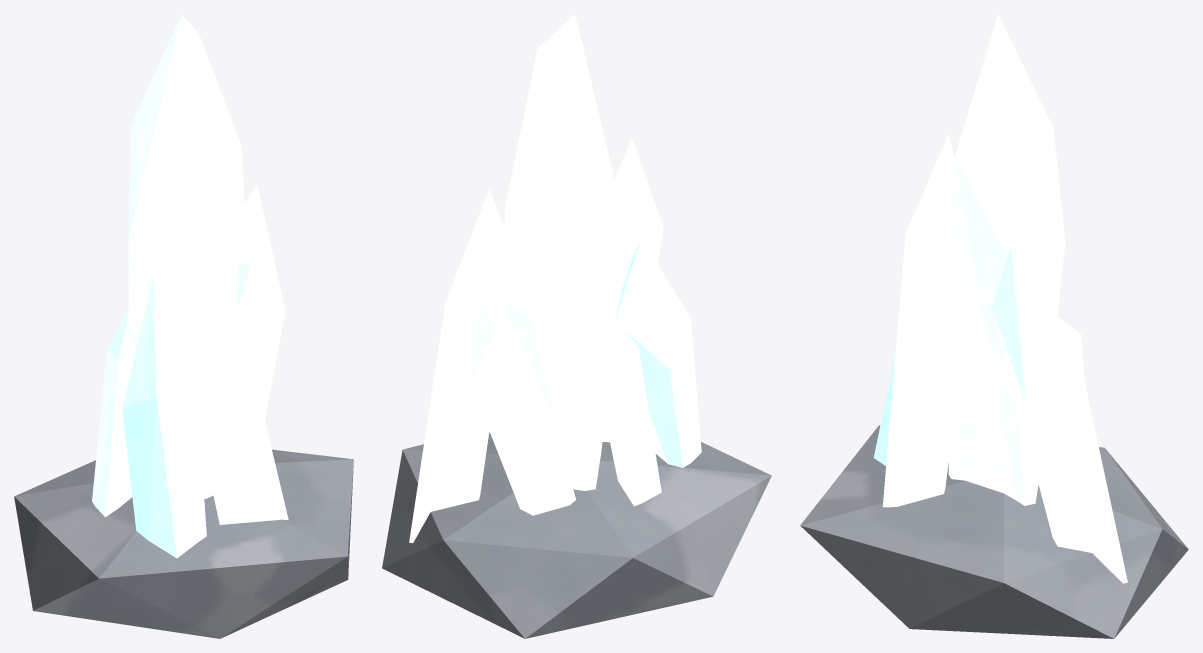
Rendered from ice_crystal_lod1.gltf.
3 renders of one model, left to right at view 1: azimuth 30°, elevation 25°; view 2: azimuth 150°, elevation 25°; view 3: azimuth 270°, elevation 25°, orthographic. The views are drawn at different scales.
Parts seen in each view (by area): view 1: ice_crystal_LOD1; view 2: ice_crystal_LOD1; view 3: ice_crystal_LOD1.
Boxes of the visible parts, <box> form: ice_crystal_LOD1: <box>14,14,353,638</box>; ice_crystal_LOD1: <box>382,14,771,638</box>; ice_crystal_LOD1: <box>800,14,1188,638</box>.
Size of the model in its own units: 0.7468 by 1.25 by 0.7927.
Materials: 1 (1 with a texture image).
